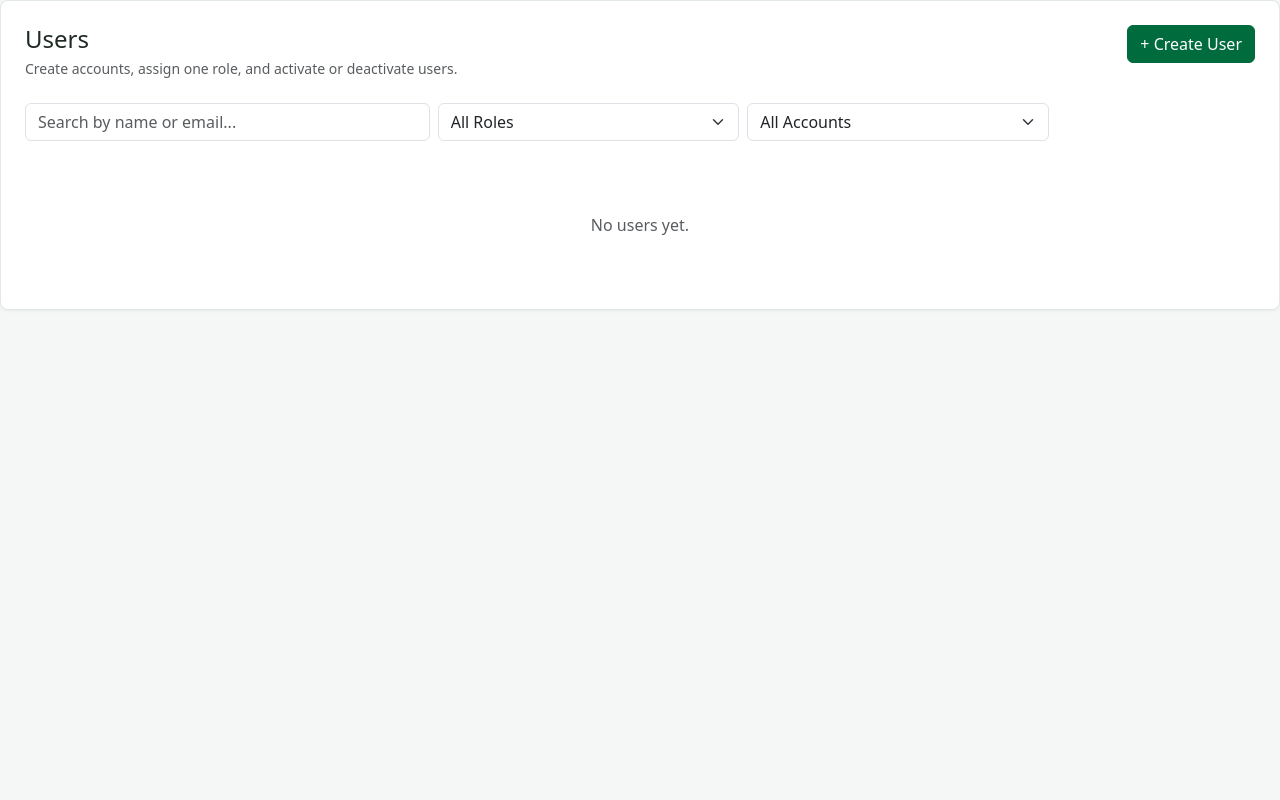
Test: Editable vs read-only field styling (STYLE-03) › UserManagement create panel: Full Name/Email/Role are real editable controls (form-control/form-select)
Click the button "+ Create User" at x=1191, y=44, box [1127,25,1255,63]
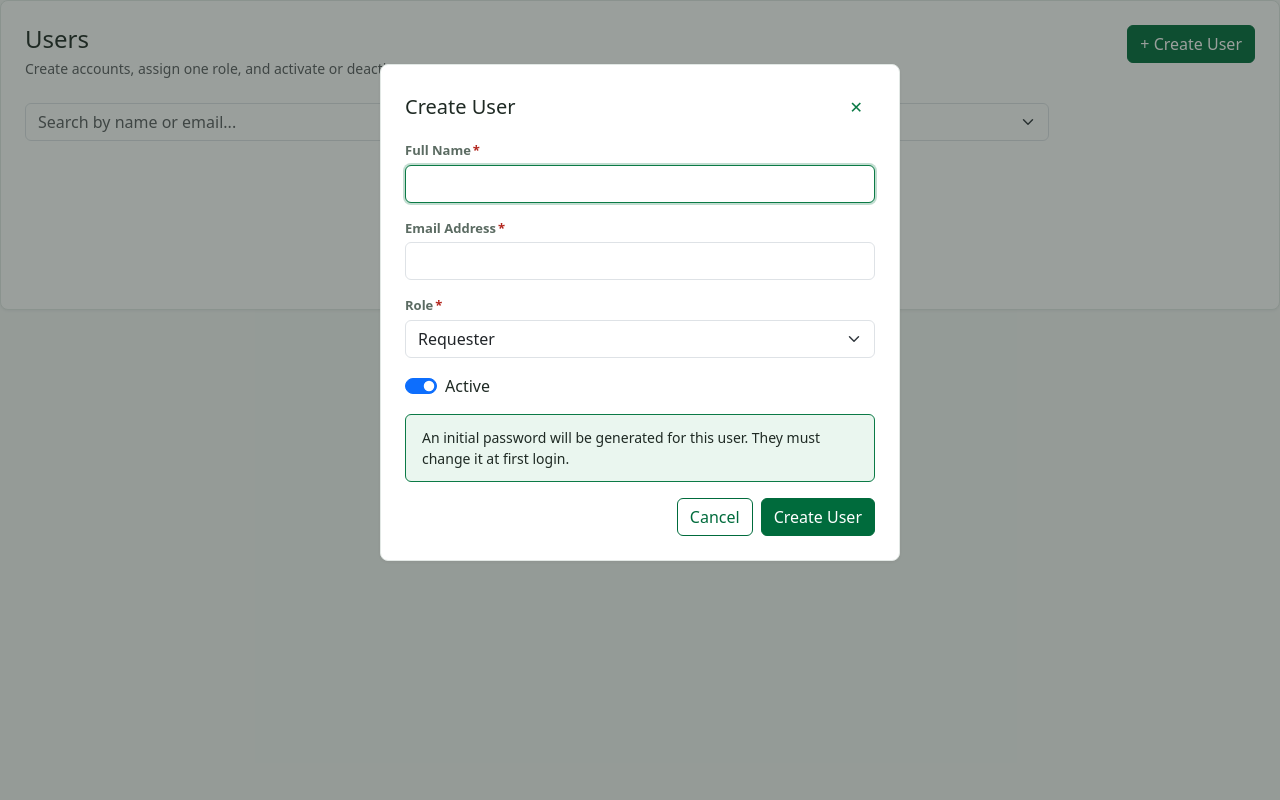
Check: the field with id "user-name" is enabled, box [405,164,875,202]
Check: the dropdown with id "user-role" is enabled, box [405,320,875,358]
